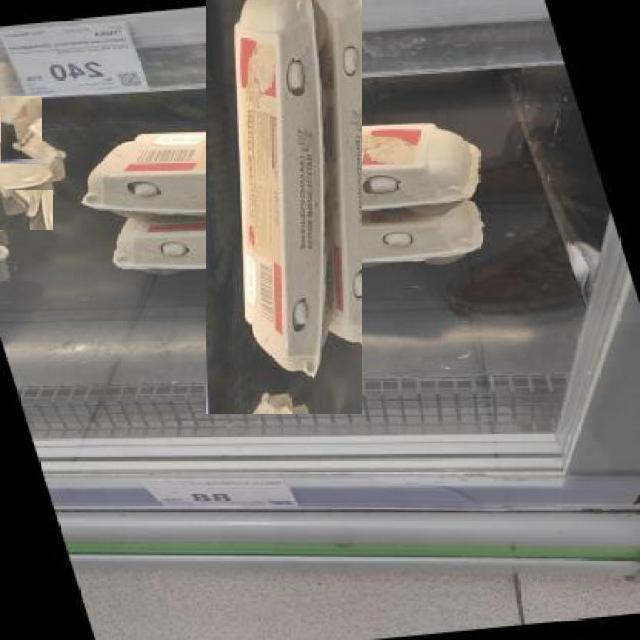Egg: (207, 0, 362, 414), (0, 95, 42, 164), (0, 190, 53, 230)
